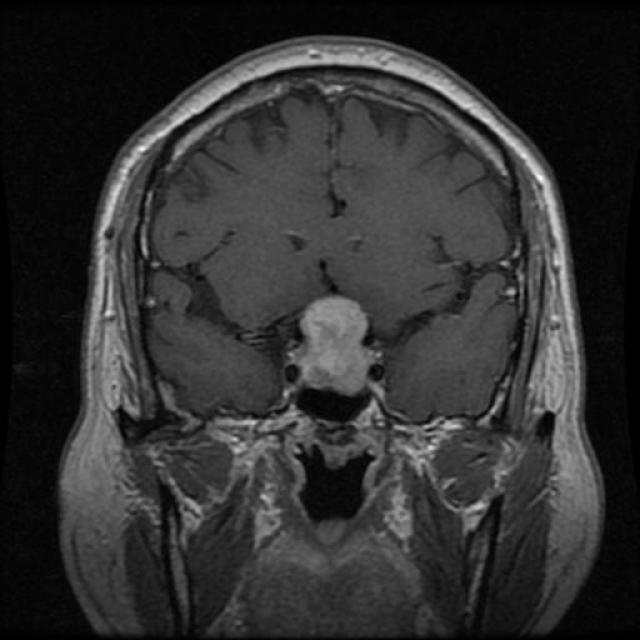pituitary: (284, 288, 386, 413)
